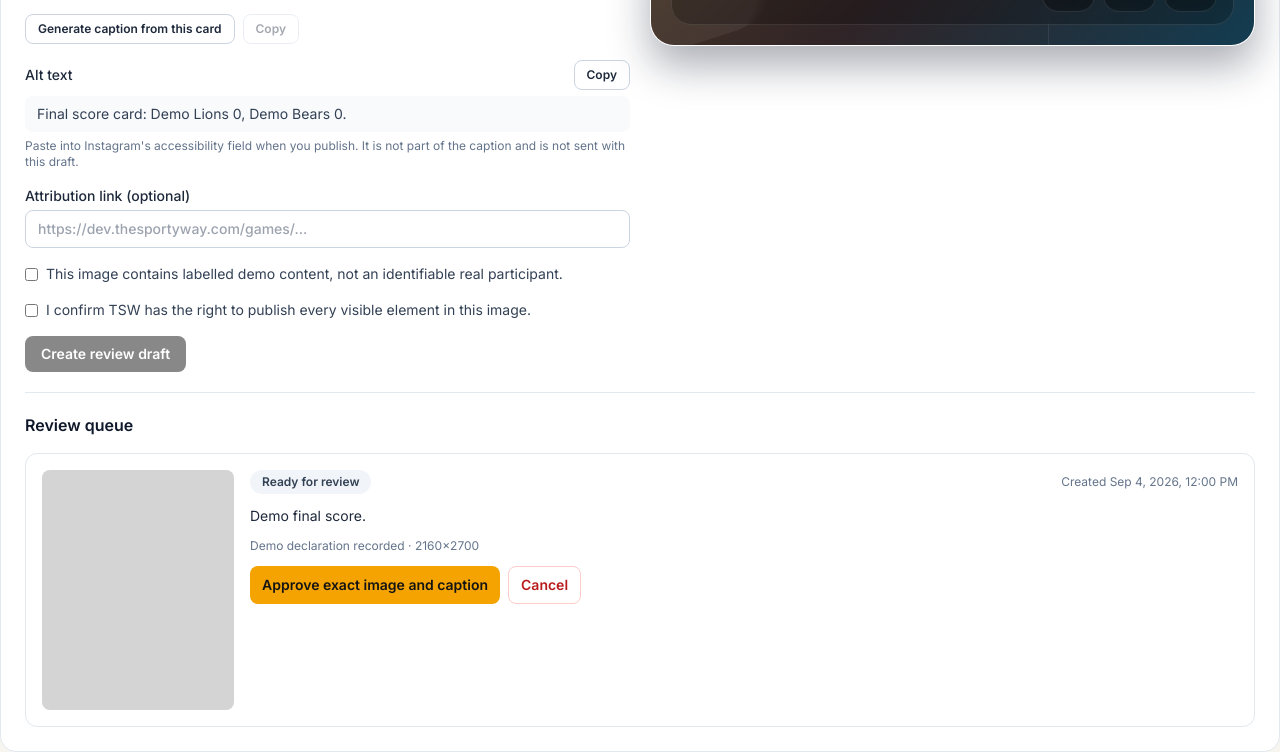
Test: InstagramSocialPostPanel › requires confirmation before approving the exact image and caption
(page scrolled)
Click the button "Approve exact image and caption" at (375, 585), box 250,566 -> 500,604
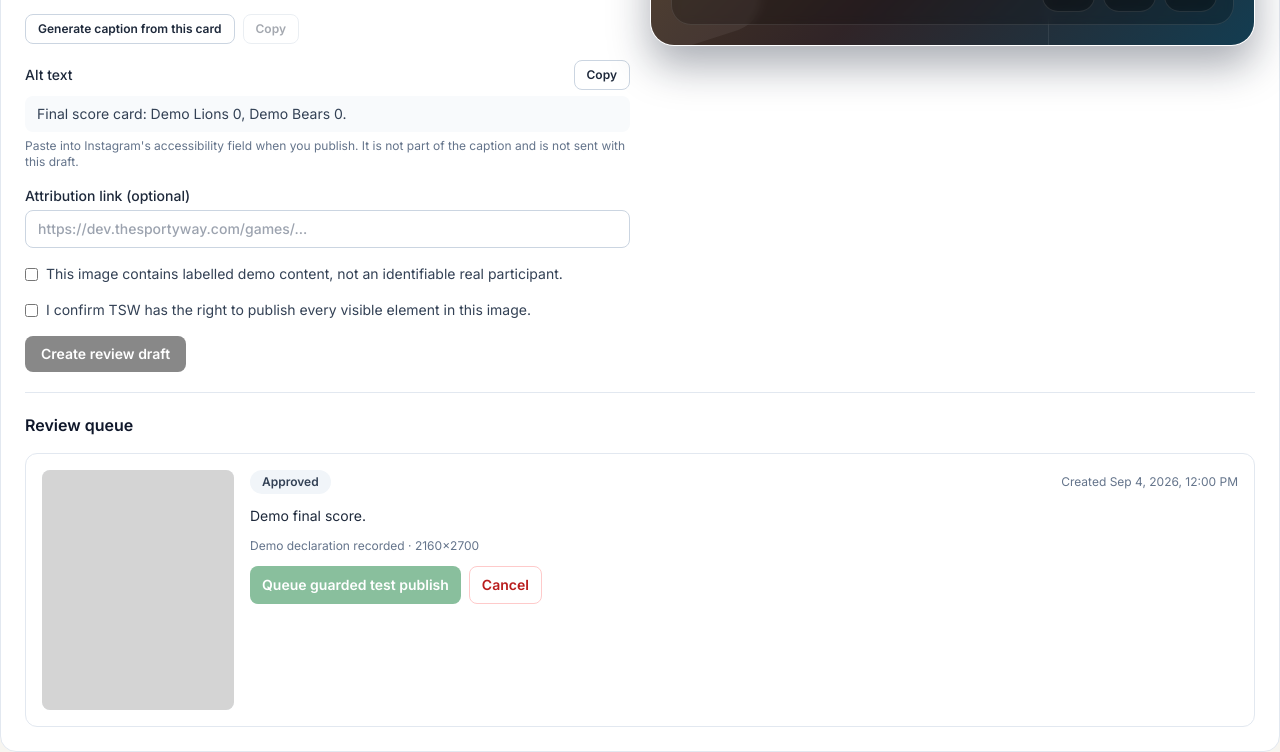
Expected: the text "Approved" is shown, 250,470 -> 331,494
